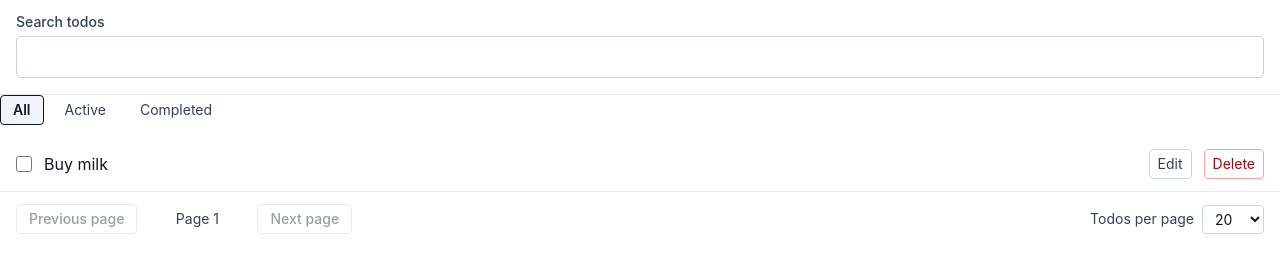
Test: TodoFlows editing: validation › shows the message and sends nothing for the title
Double-click the text "Buy milk" at (76, 164), box [44,154,108,174]
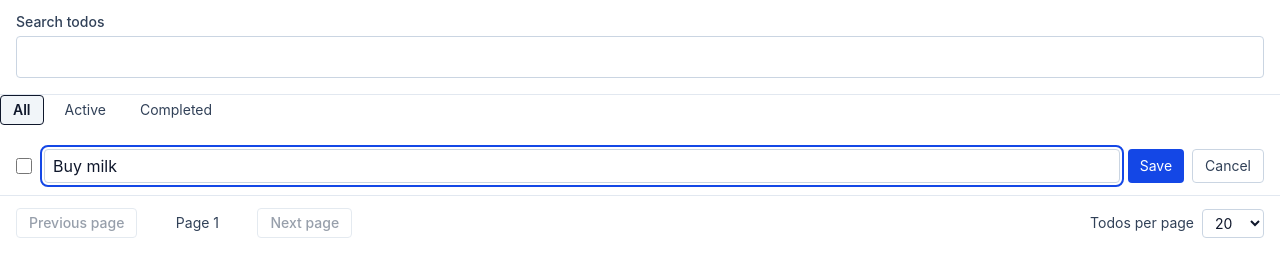
Clear the field named "Edit title of “Buy milk”" at (582, 166), box [44,149,1120,183]
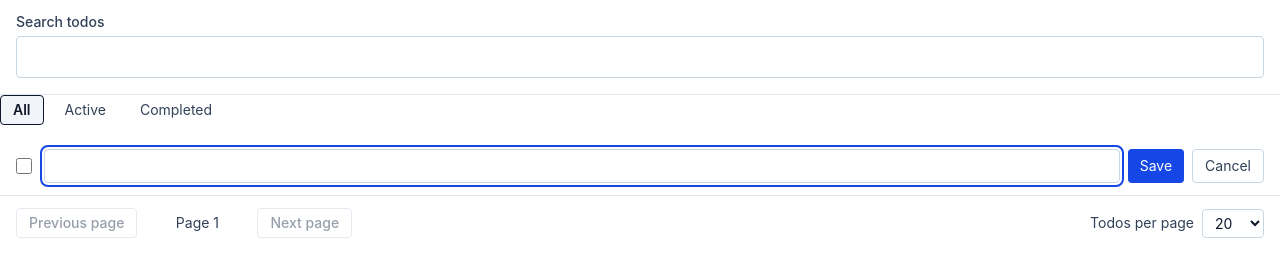
Press Enter
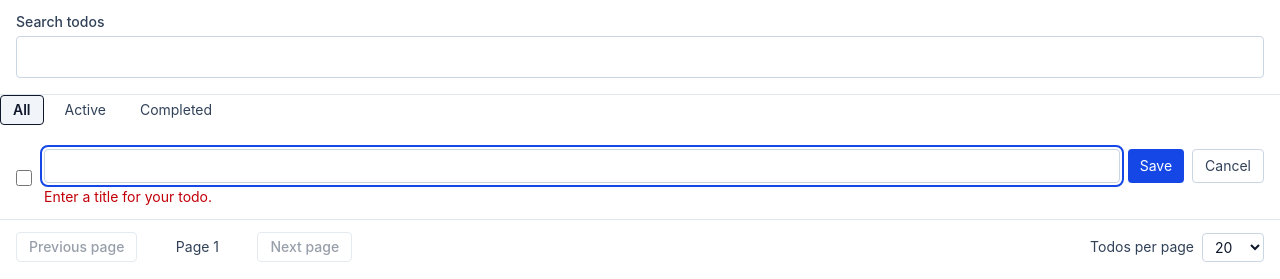
Now the message reads "Enter a title for your todo.", box [44,188,212,205]
